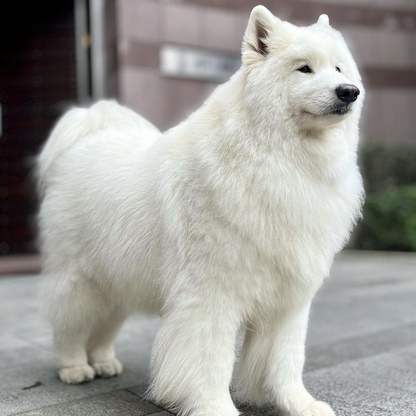samoyed: (23, 1, 376, 416)
